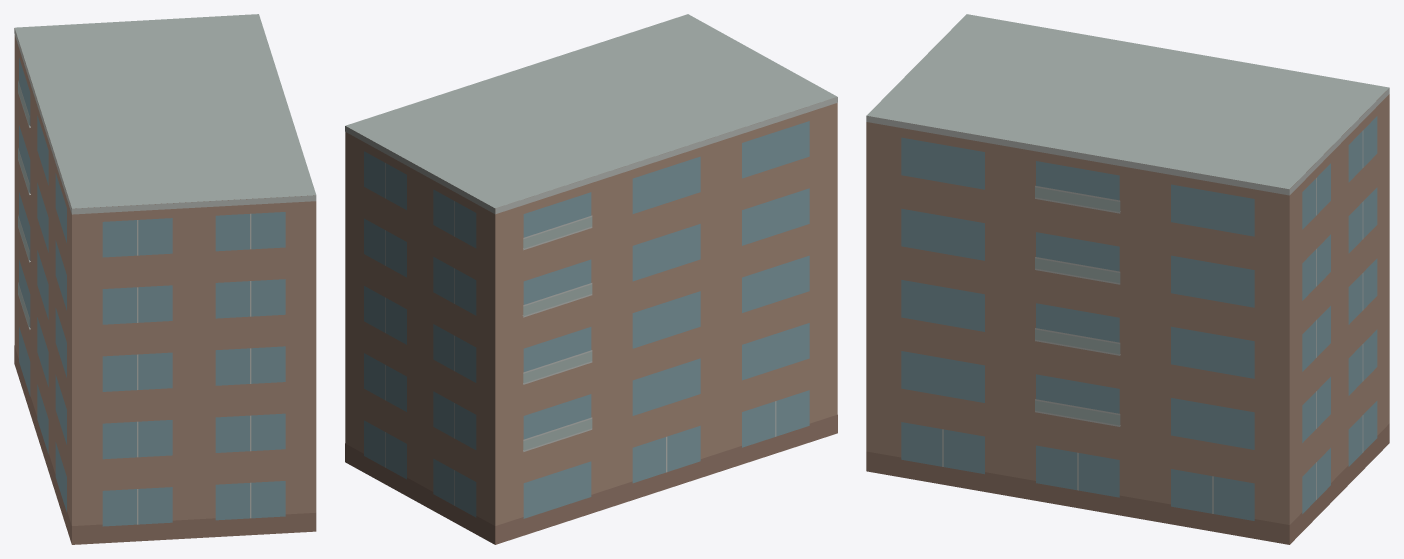
The model's file is survey-upis-32971859.glb.
3 renders of one model, left to right at view 1: azimuth 30°, elevation 25°; view 2: azimuth 150°, elevation 25°; view 3: azimuth 270°, elevation 25°, orthographic. The views are drawn at different scales.
Visible parts, largest first — view 1: survey-upis-32971859.tmp; view 2: survey-upis-32971859.tmp; view 3: survey-upis-32971859.tmp.
Part boxes in pixels (<box>): survey-upis-32971859.tmp: <box>14,14,316,544</box>; survey-upis-32971859.tmp: <box>345,14,837,544</box>; survey-upis-32971859.tmp: <box>866,14,1389,544</box>.
Size of the model in its own units: 14.7 by 13.9 by 18.54.
